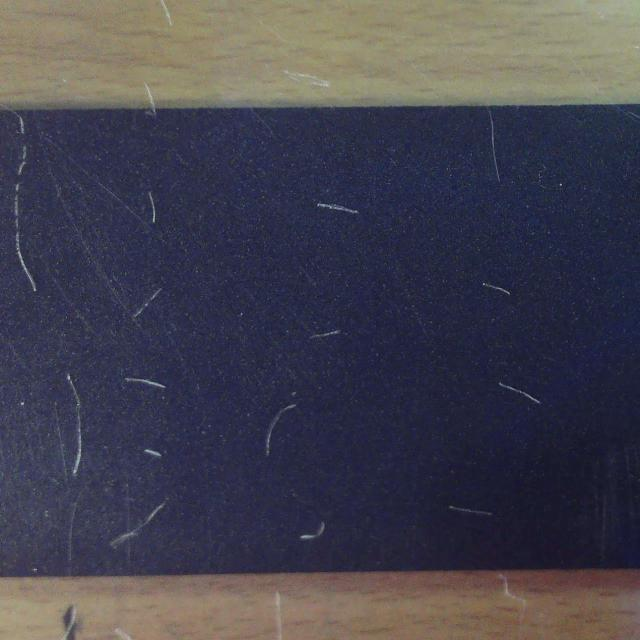defect: (11, 111, 37, 292), (110, 499, 166, 549), (57, 372, 83, 478), (480, 107, 510, 186), (260, 402, 302, 458), (494, 378, 544, 412), (314, 194, 363, 222), (446, 497, 494, 521), (122, 372, 170, 394), (132, 287, 162, 320), (481, 274, 515, 303), (296, 517, 328, 542), (306, 324, 342, 346), (144, 186, 160, 228), (141, 109, 161, 121), (146, 447, 166, 459)
